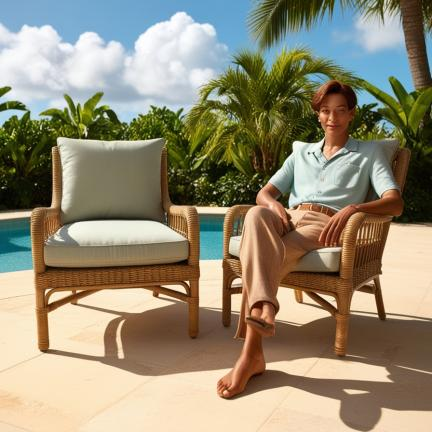empty chair: (31, 138, 200, 350)
guest on chair: (217, 80, 410, 398)
